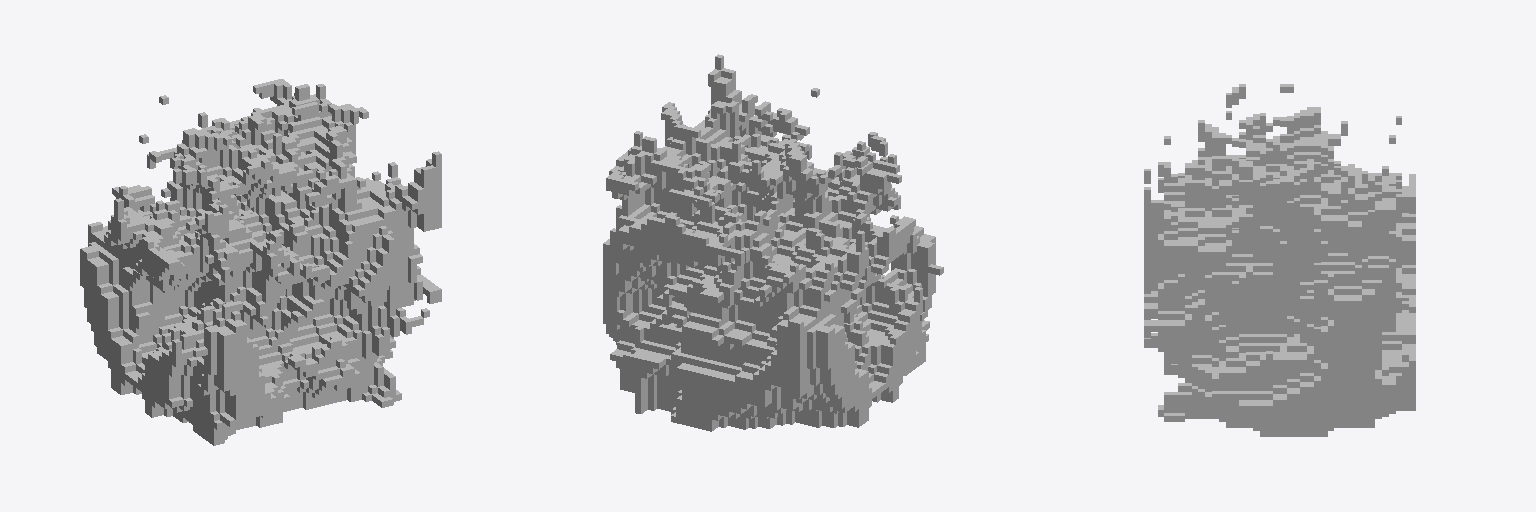
The model's file is Fire.obj.
3 renders of one model, left to right at view 1: azimuth 30°, elevation 25°; view 2: azimuth 150°, elevation 25°; view 3: azimuth 270°, elevation 25°, orthographic.
Visible parts, largest first — view 1: object 1; view 2: object 1; view 3: object 1.
Boxes of the visible parts, <box> form: object 1: <box>80,79,441,445</box>; object 1: <box>603,54,943,431</box>; object 1: <box>1144,84,1415,436</box>.
Bounding box in the file's own units: 4 × 4 × 4.